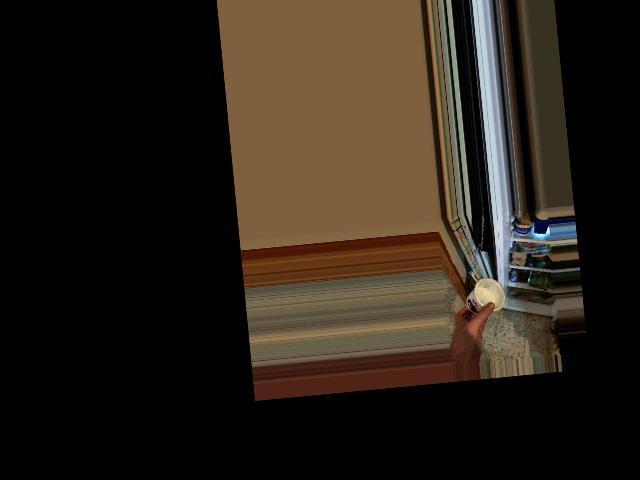cotage: (462, 277, 502, 317)
